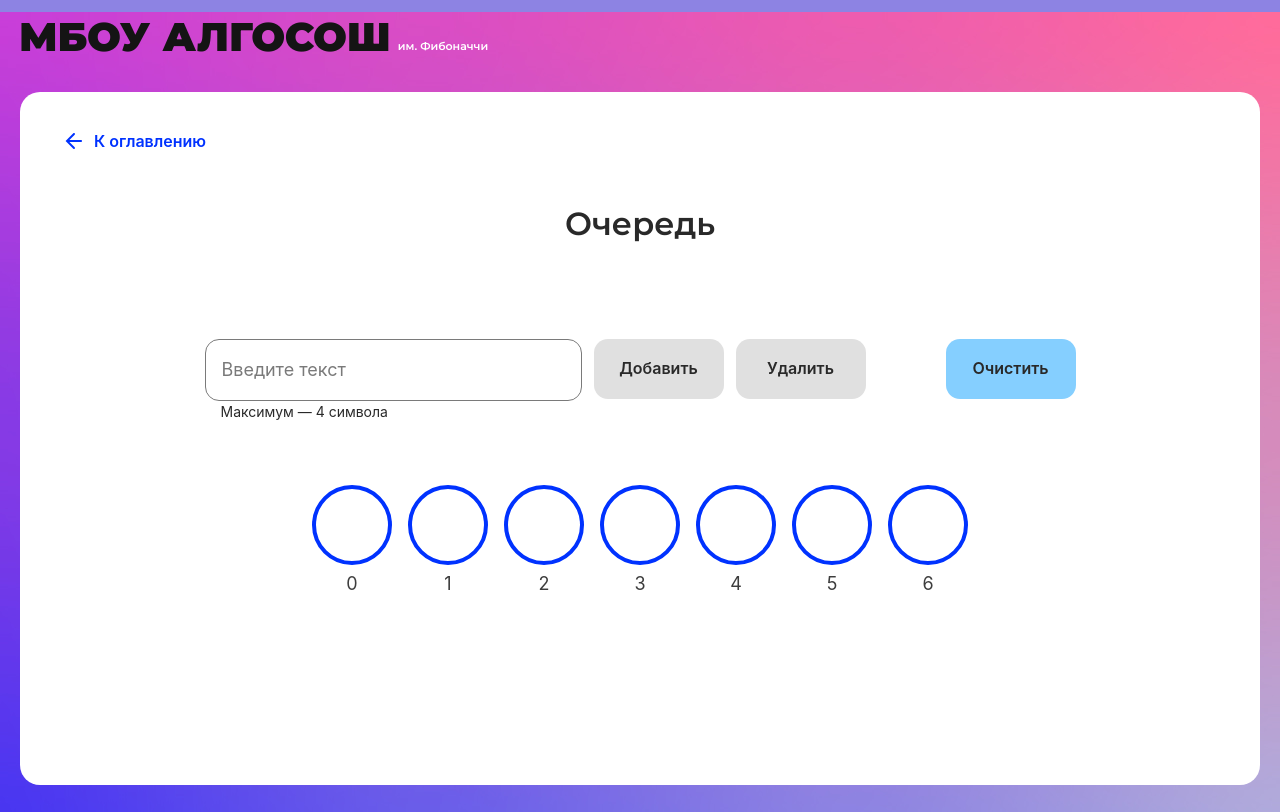
Test: Queue Page › Проверка добавления элемента в очередь
Type "A" into the field with placeholder "Введите текст". click: (394, 370)
box: [205, 339, 582, 401]
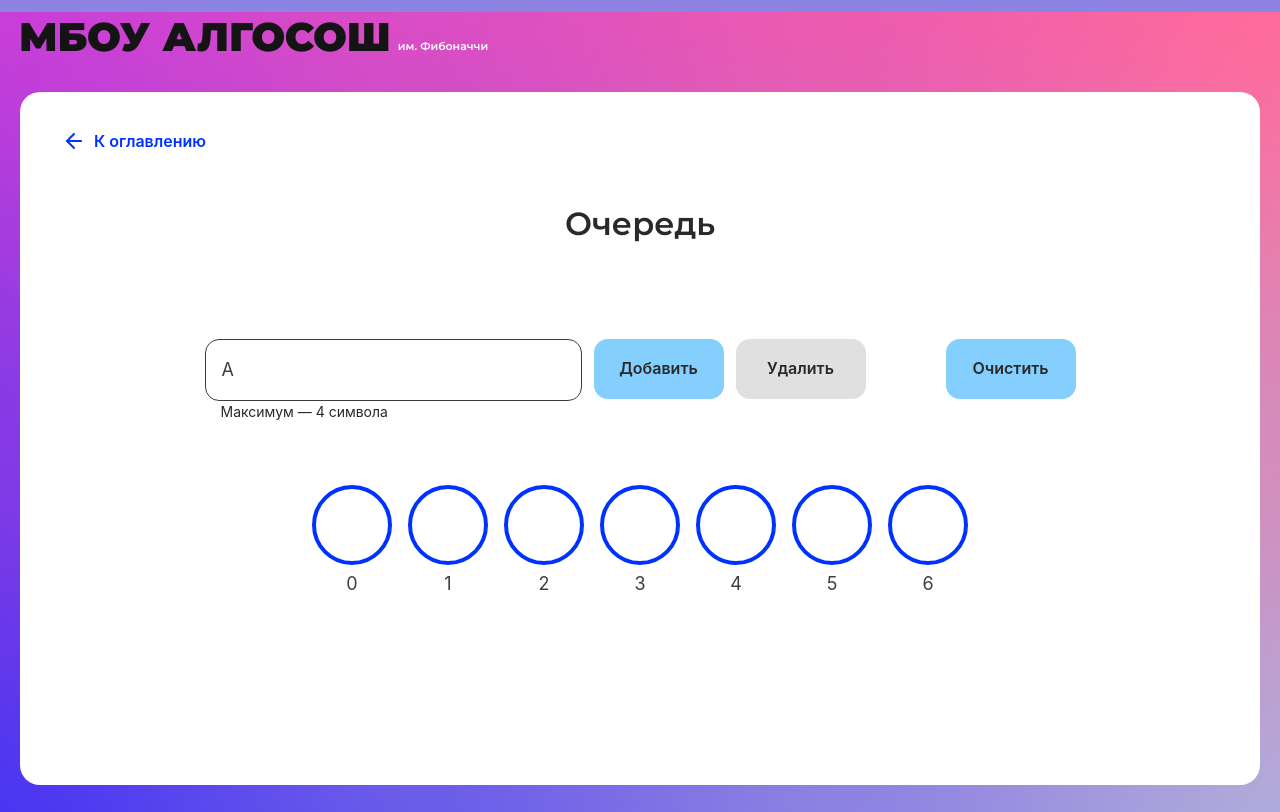
Click the button with test id "addToQueue". click: (659, 369)
box: [594, 339, 724, 399]
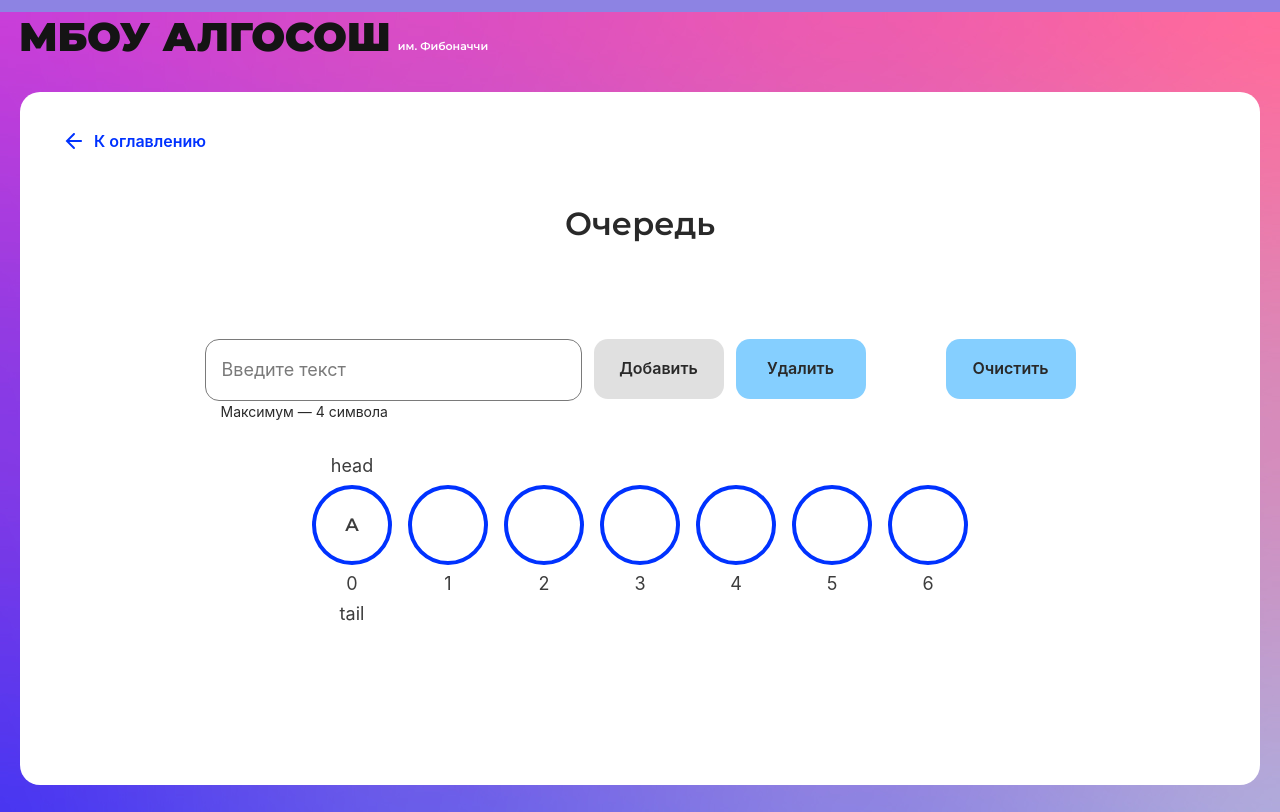
expect the text "head" is shown: met, box [331, 455, 373, 477]
expect the text "tail" is shown: met, box [340, 603, 364, 625]
